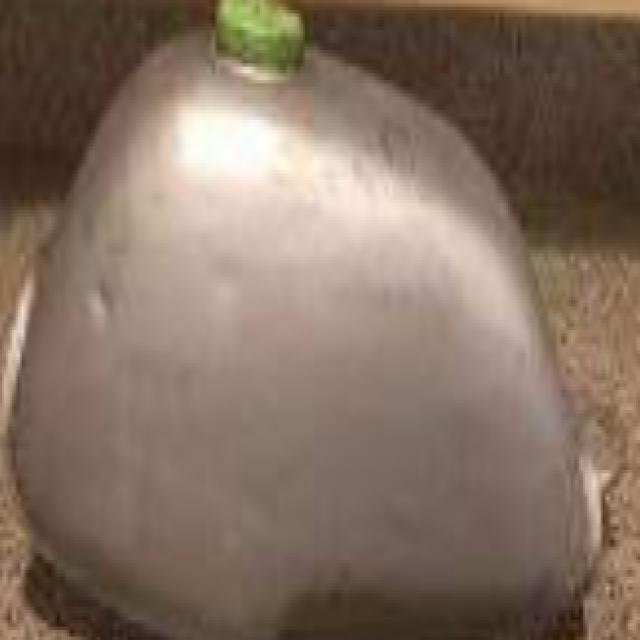dents: (78, 266, 142, 344)
